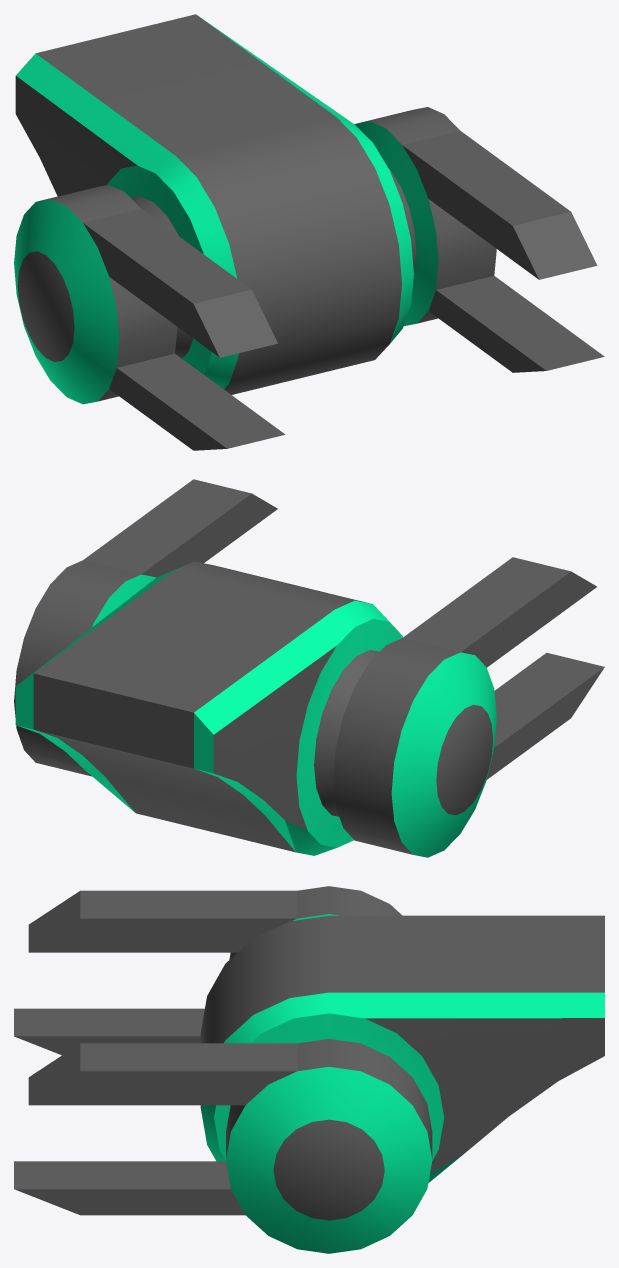
The model's file is GreenDrone.fbx.
3 renders of one model, top to bottom at view 1: azimuth 30°, elevation 25°; view 2: azimuth 150°, elevation 25°; view 3: azimuth 270°, elevation 25°, orthographic. The views are drawn at different scales.
Parts seen in each view (by area): view 1: pCylinder7; view 2: pCylinder7; view 3: pCylinder7.
Part boxes in pixels (x1,y1,x2,y2): pCylinder7: (14, 14, 604, 450); pCylinder7: (14, 479, 604, 857); pCylinder7: (14, 886, 604, 1253).
Bounding box in the file's own units: 1.38 × 0.7476 × 1.72.
